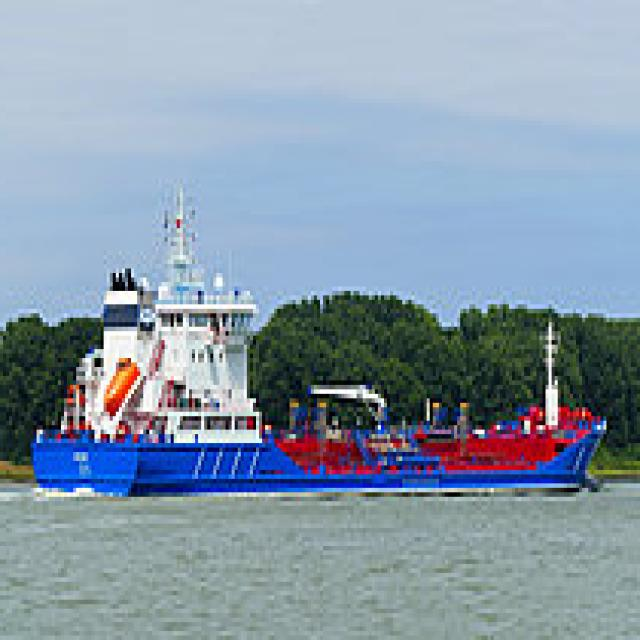Tanker: (30, 175, 616, 501)
